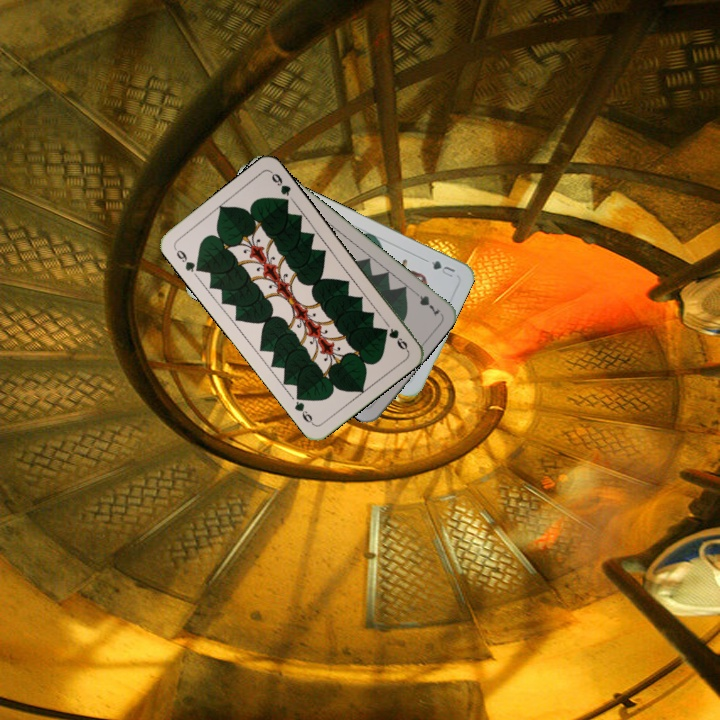G7: (408, 286, 443, 318)
G9: (170, 244, 205, 275), (384, 324, 410, 353)
GU: (426, 256, 458, 280)
